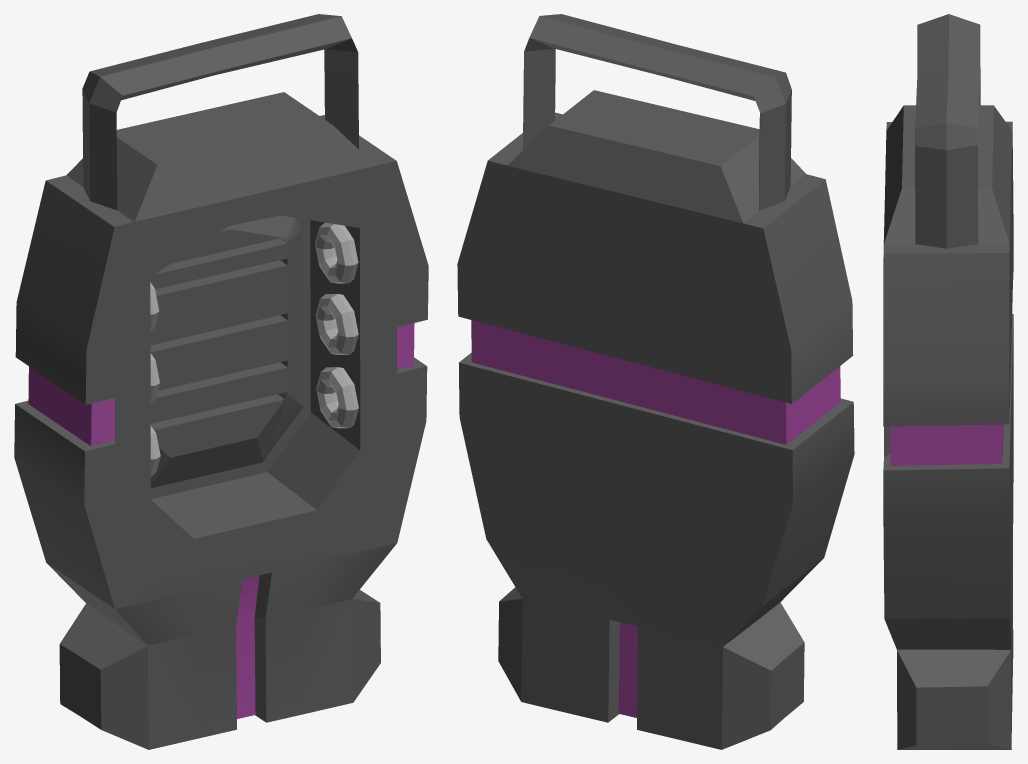
The model's file is Fusible receptacle.fbx.
3 views of the same model, side by side, from view 1: azimuth 30°, elevation 25°; view 2: azimuth 150°, elevation 25°; view 3: azimuth 270°, elevation 25° (orthographic). The views are drawn at different scales.
Visible parts, largest first — view 1: pTorus13; view 2: pTorus13; view 3: pTorus13.
Boxes of the visible parts, x1,y1,x2,y2 form: pTorus13: [14, 14, 428, 749]; pTorus13: [457, 14, 854, 749]; pTorus13: [883, 14, 1013, 749].
Size of the model in its own units: 3.03 by 5.56 by 1.04.
